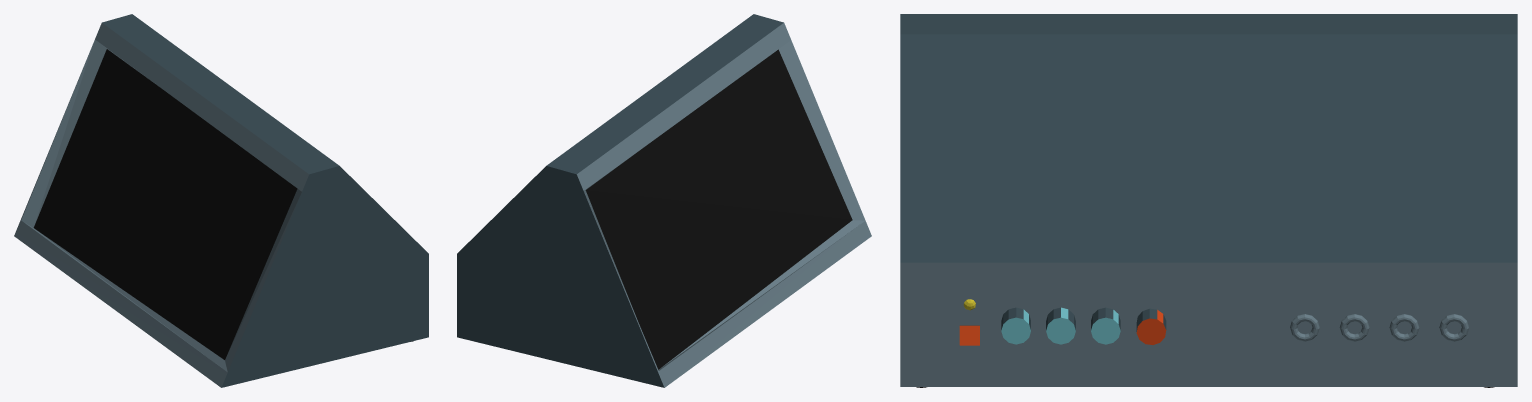
The picture shows the model from 3 angles, left to right: view 1: azimuth 30°, elevation 25°; view 2: azimuth 150°, elevation 25°; view 3: azimuth 270°, elevation 25°; orthographic projection. The views are drawn at different scales.
Visible parts, largest first — view 1: node_MeshObject1148211648-PolyPaper17; view 2: node_MeshObject1148211648-PolyPaper17; view 3: node_MeshObject1148211648-PolyPaper17.
Part boxes in pixels (x1,y1,x2,y2): node_MeshObject1148211648-PolyPaper17: (14,14,428,387); node_MeshObject1148211648-PolyPaper17: (457,14,871,387); node_MeshObject1148211648-PolyPaper17: (900,14,1517,387).
Size of the model in its own units: 0.3821 by 0.3255 by 0.62.
